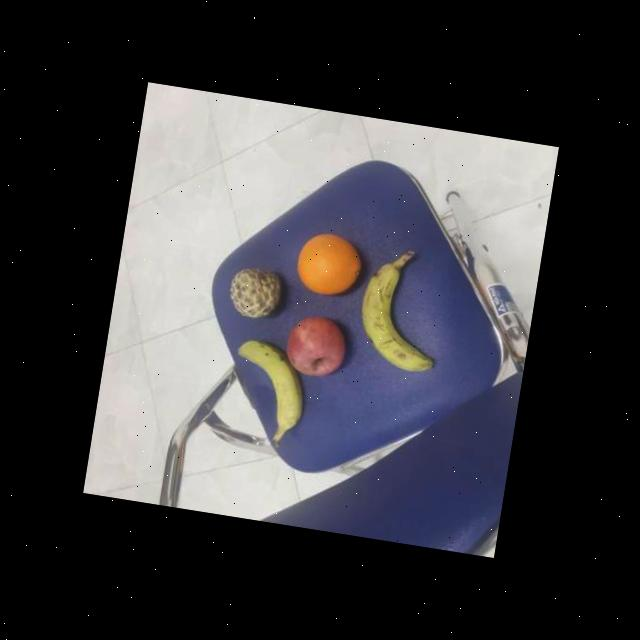Sakya fruit: (221, 262, 284, 324)
apple: (280, 309, 349, 382)
banana: (351, 248, 448, 379), (224, 332, 312, 436)
orange: (290, 228, 364, 304)
